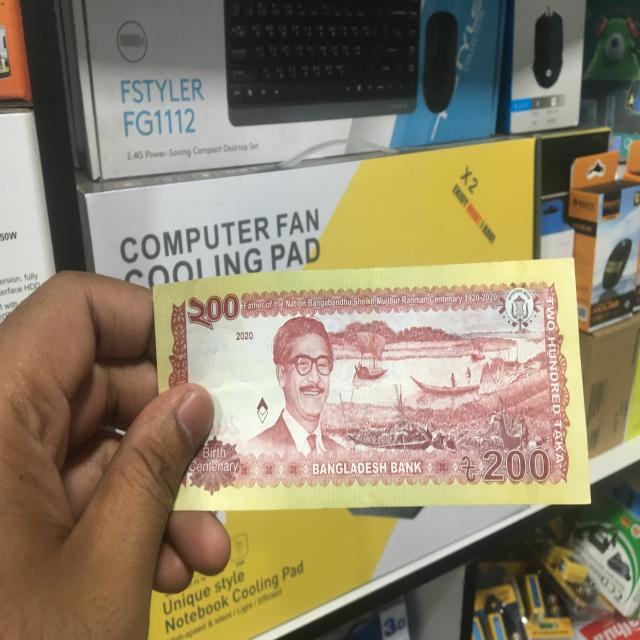Taka: (153, 278, 588, 507)
